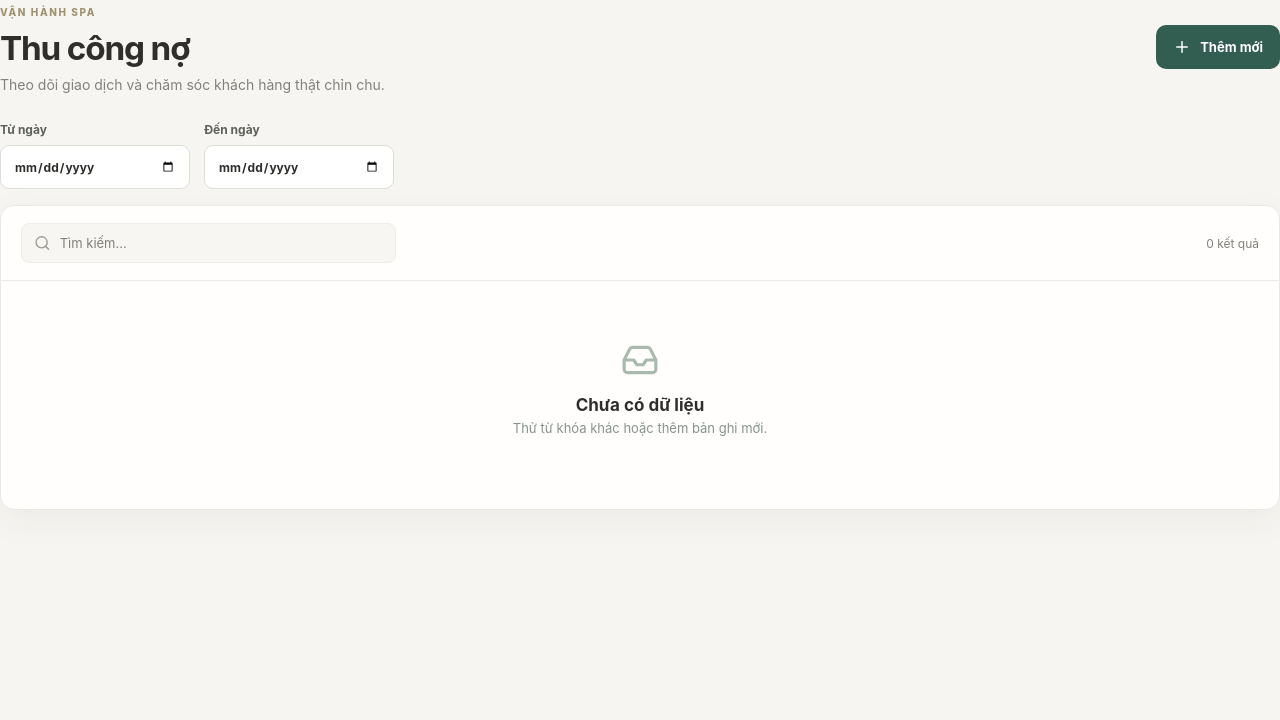
Test: does not rebalance inconsistent customer data
Click the button "Thêm mới".
click(1218, 47)  # box [1156, 25, 1279, 69]
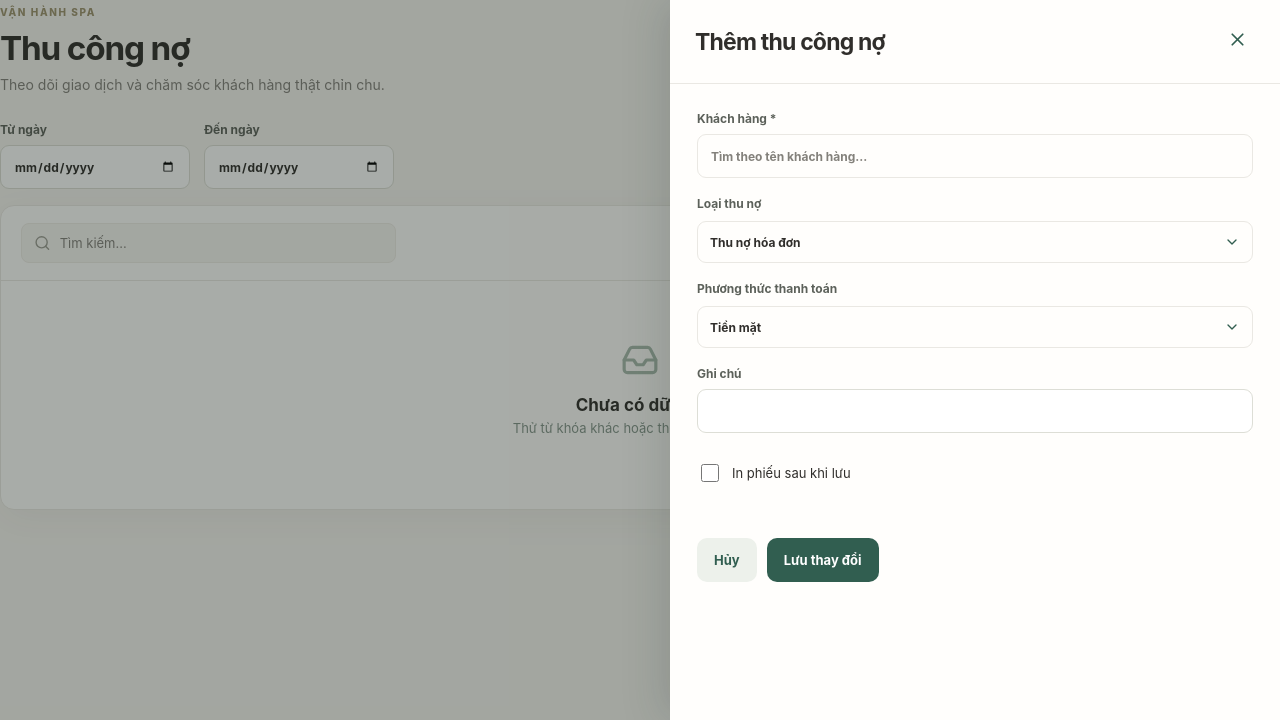
Click the dropdown named "Tìm khách hàng".
click(975, 156)  # box [697, 134, 1253, 178]
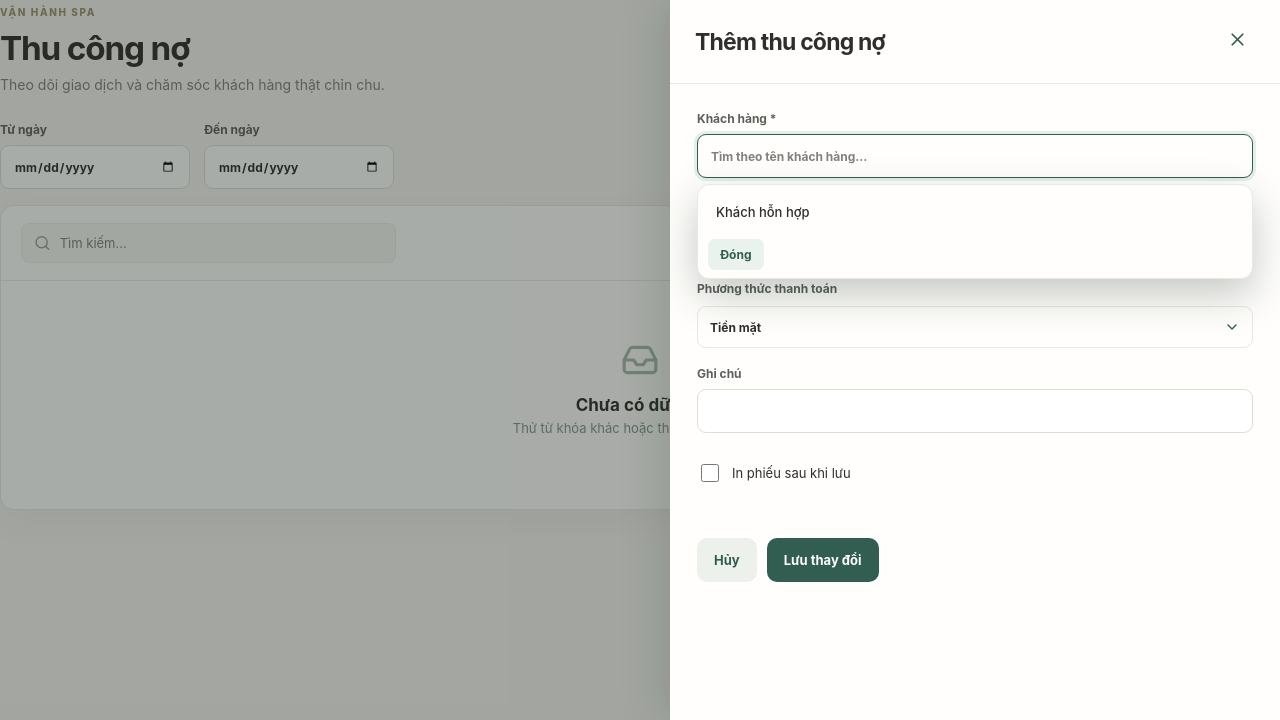
Click the option "Khách hỗn hợp".
click(763, 212)  # box [704, 191, 1246, 233]
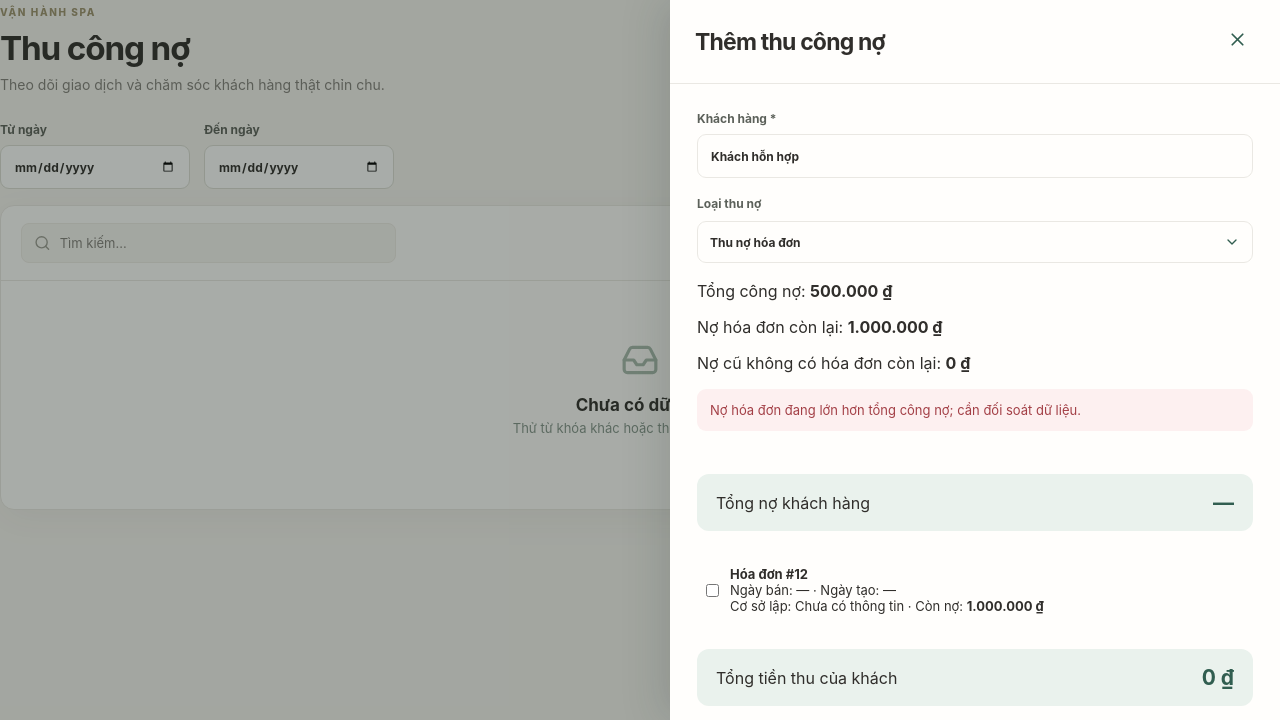
Result: the element named "Công nợ khách hàng" is shown at [697, 281, 1253, 444]
Select "Thu nợ cũ không có hóa đơn" in the dropdown labelled "Loại thu nợ" at (975, 230), box [697, 196, 1253, 263]
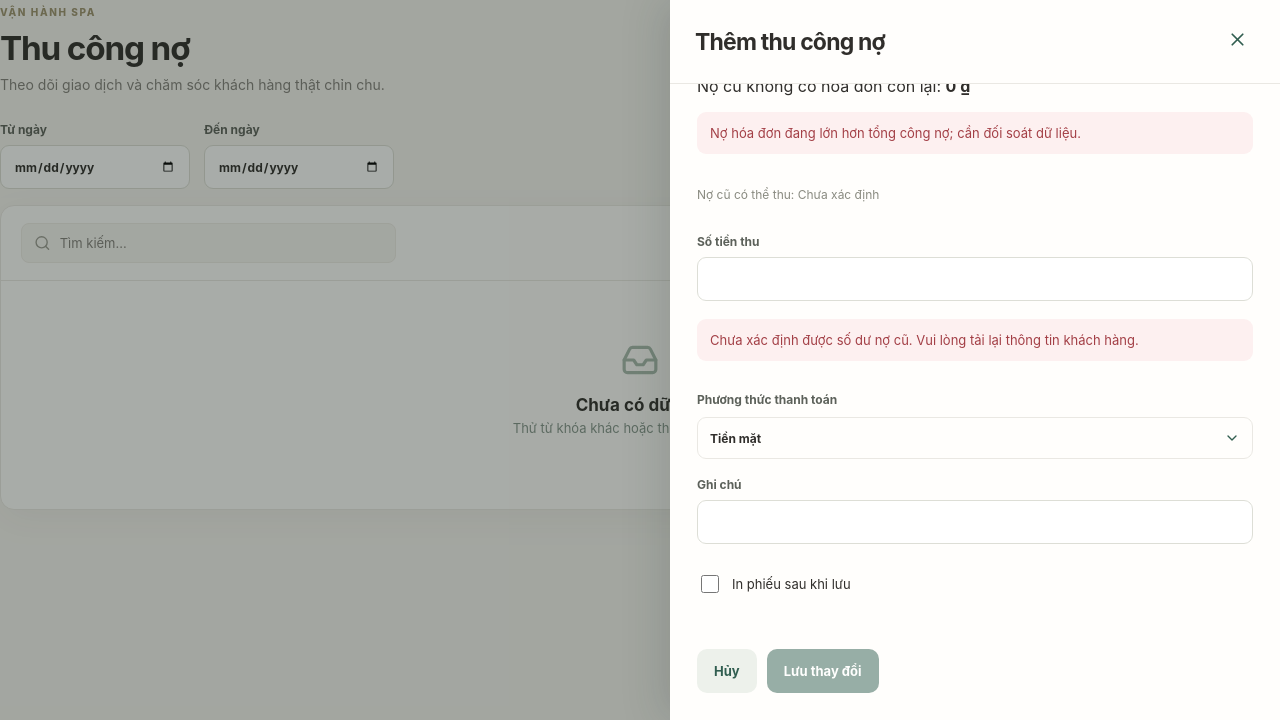
Result: the button "Lưu thay đổi" is disabled at [767, 649, 878, 693]
